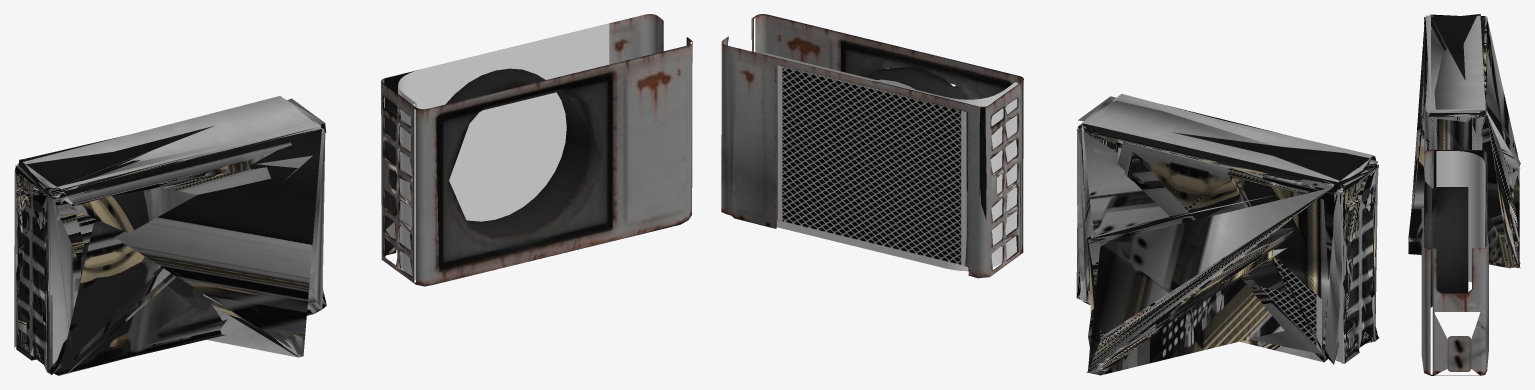
The model's file is exterior_aircon_unit.gltf.
The picture shows the model from 3 angles, left to right: view 1: azimuth 30°, elevation 25°; view 2: azimuth 150°, elevation 25°; view 3: azimuth 270°, elevation 25°; orthographic projection. The views are drawn at different scales.
Visible parts, largest first — view 1: exterior_aircon_unit, exterior_aircon_unit_rusted; view 2: exterior_aircon_unit, exterior_aircon_unit_rusted; view 3: exterior_aircon_unit, exterior_aircon_unit_rusted.
Boxes of the visible parts, x1,y1,x2,y2 form: exterior_aircon_unit: (14,96,326,375); exterior_aircon_unit_rusted: (381,14,692,286); exterior_aircon_unit: (1076,93,1379,375); exterior_aircon_unit_rusted: (721,14,1023,278); exterior_aircon_unit: (1408,14,1520,268); exterior_aircon_unit_rusted: (1421,149,1488,375).
Size of the model in its own units: 1.77 by 0.6079 by 0.3632.
4 materials, 4 textured.
